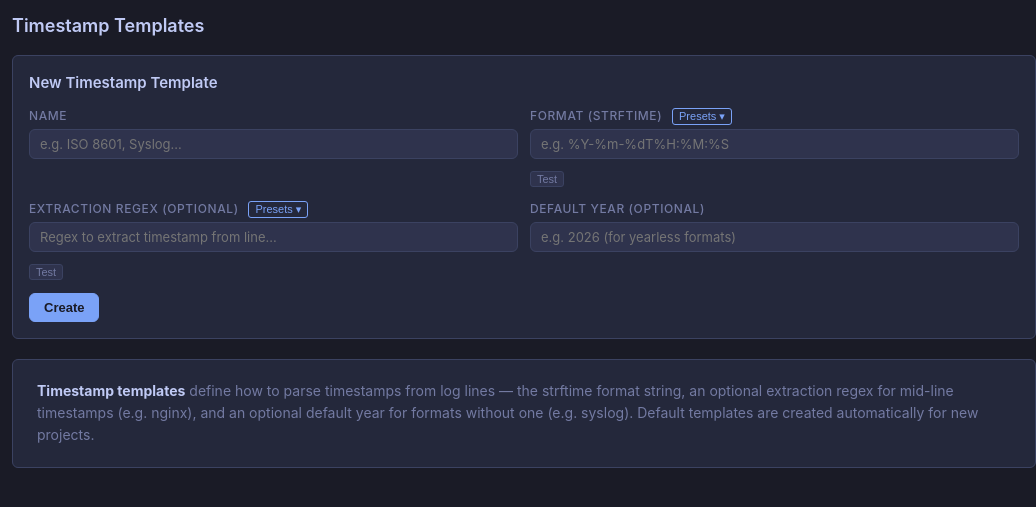
TimestampTemplateManager regex validation › disables Create button when extraction regex is invalid
The image size is (1036, 507).
Note: Fill required fields
Type "My TS Template" into the field with placeholder "e.g. ISO 8601, Syslog..." at (274, 144), box 29,128 -> 518,158
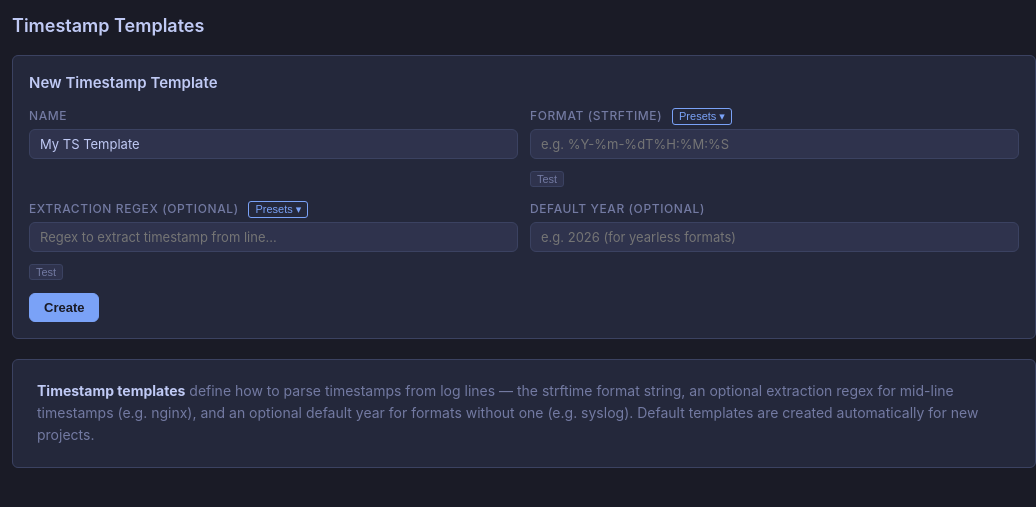
Type "%Y-%m-%d" into the field with placeholder "e.g. %Y-%m-%dT%H:%M:%S" at (774, 144), box 530,128 -> 1019,158
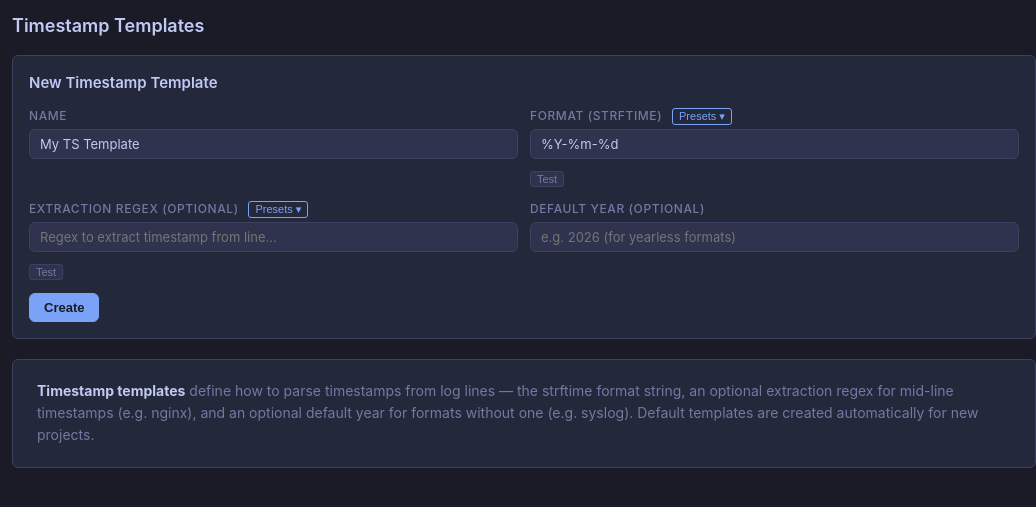
Note: Type invalid regex
Type "[abc" into the field with placeholder "Regex to extract timestamp from line..." at (274, 236), box 29,222 -> 518,252
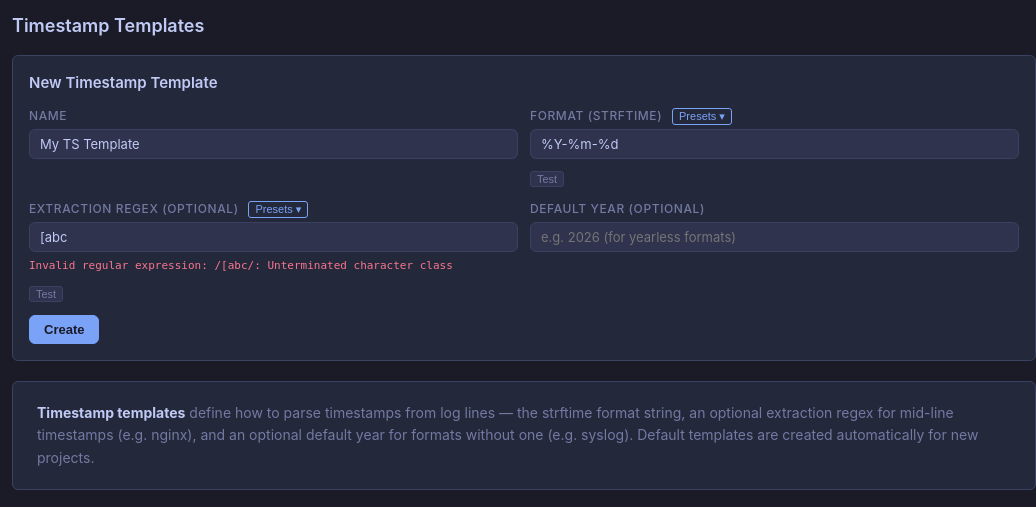
Expected: the button "Create" is disabled, 29,315 -> 100,344
